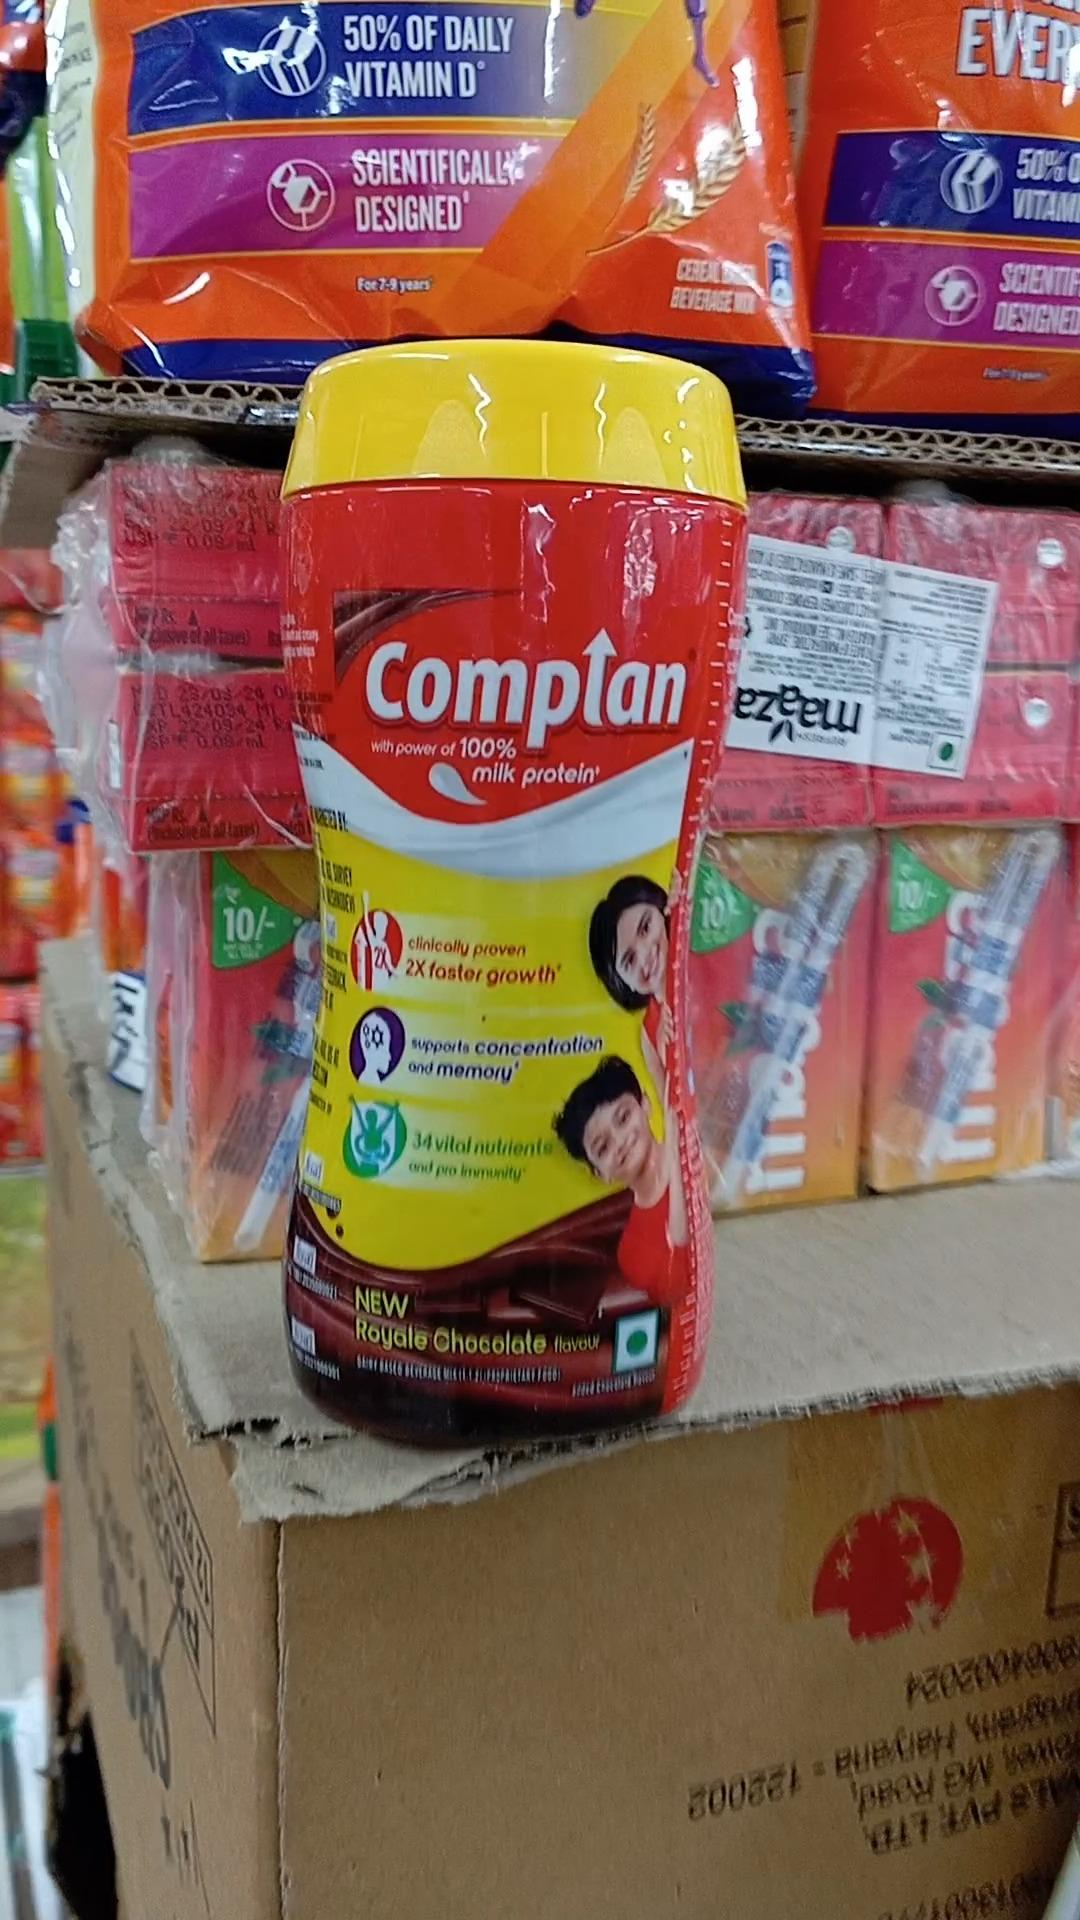COMPLAN_CHOCOLATE_200_GMS_JAR: (281, 332, 699, 1428)
